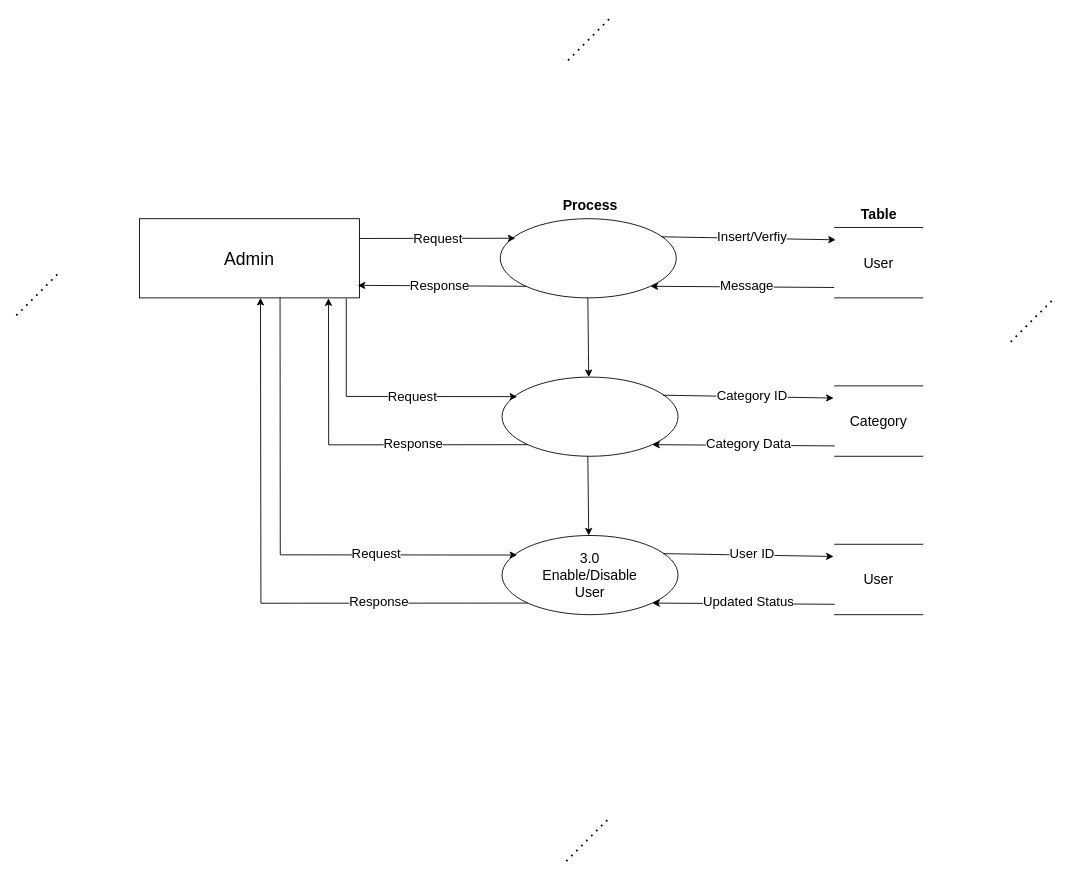
Some shapes in this 1071 by 877 pixel diagram are drawn without their labels. The centre of each missing label's shape, as x and y in pixels:
"1.0 Register/Login" belongs at (x=587, y=258).
"2.0 Manage Category" belongs at (x=589, y=416).
